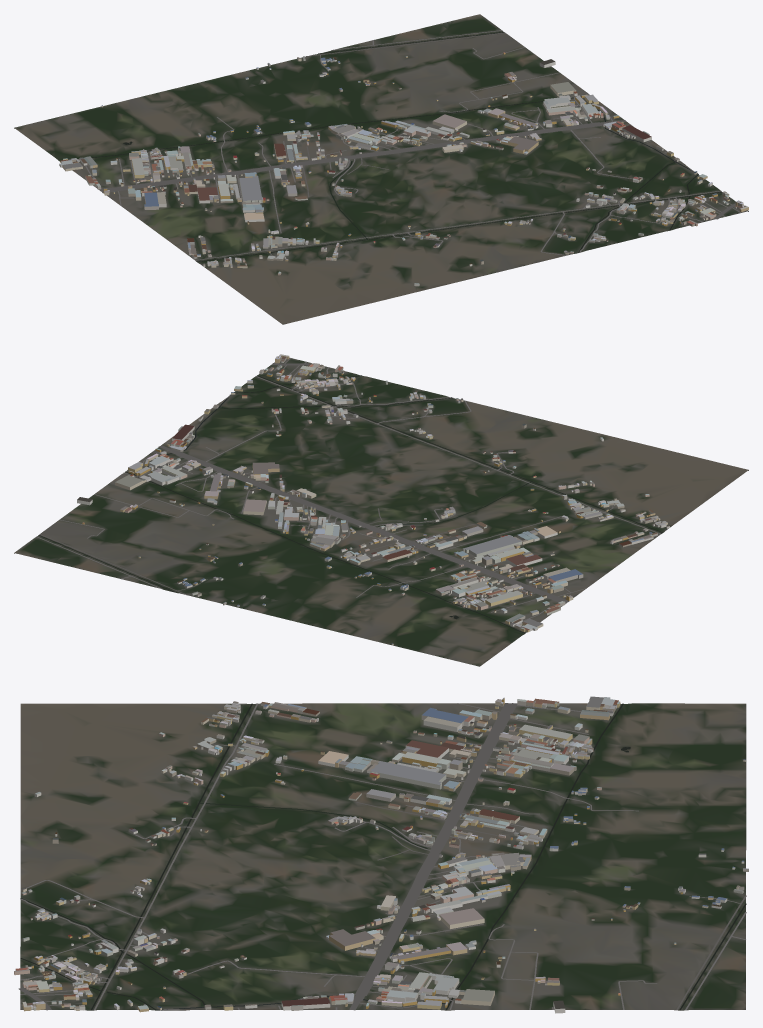
The picture shows the model from 3 angles, top to bottom: view 1: azimuth 30°, elevation 25°; view 2: azimuth 150°, elevation 25°; view 3: azimuth 270°, elevation 25°; orthographic projection. The views are drawn at different scales.
Parts seen in each view (by area): view 1: ground, buildings, roads, water; view 2: ground, buildings, roads, water; view 3: ground, buildings, roads, water.
Part boxes in pixels (left/top/right/bottom): ground: left=14, top=14, right=748, bottom=324; buildings: left=59, top=52, right=748, bottom=286; roads: left=85, top=30, right=741, bottom=260; water: left=78, top=32, right=721, bottom=262; ground: left=14, top=357, right=748, bottom=666; buildings: left=77, top=354, right=669, bottom=645; roads: left=36, top=358, right=660, bottom=620; water: left=38, top=375, right=662, bottom=633; ground: left=20, top=703, right=746, bottom=1010; buildings: left=14, top=696, right=748, bottom=1013; roads: left=18, top=703, right=746, bottom=1010; water: left=20, top=703, right=746, bottom=1010.
Bounding box in the file's own units: 1433 × 19.7 × 1419.
